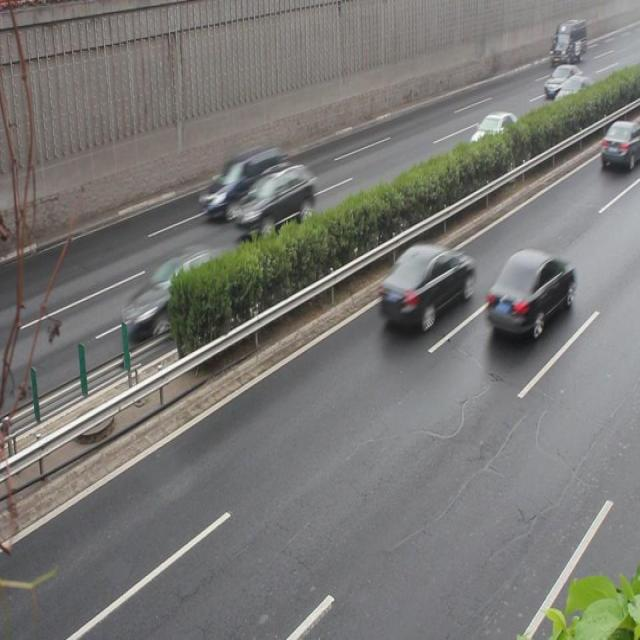car: (123, 245, 245, 340), (375, 242, 473, 332), (484, 248, 574, 342), (229, 166, 317, 237), (467, 111, 521, 165)
truck: (200, 146, 288, 222)
